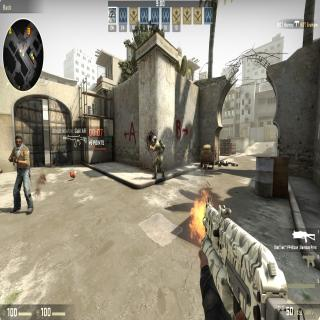CT-Body: (152, 136, 164, 180)
CT-Head: (152, 135, 158, 144)
T-Body: (11, 134, 31, 214)
T-Head: (15, 134, 23, 148)
